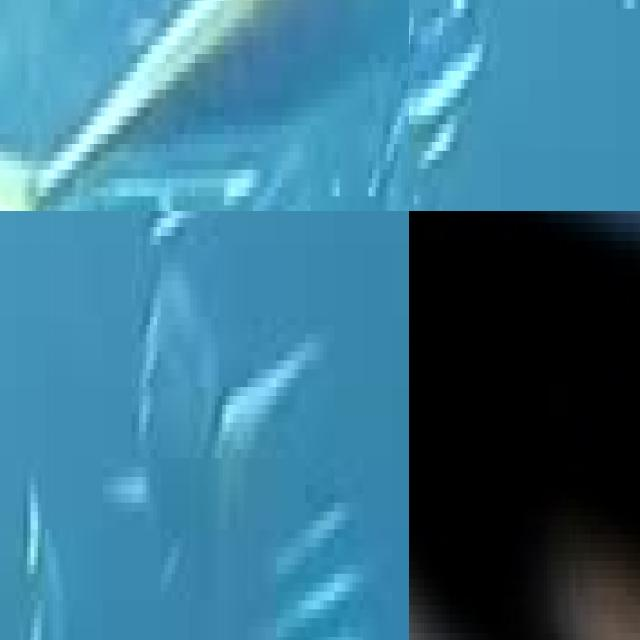fish: (409, 211, 640, 640), (0, 0, 409, 211)
